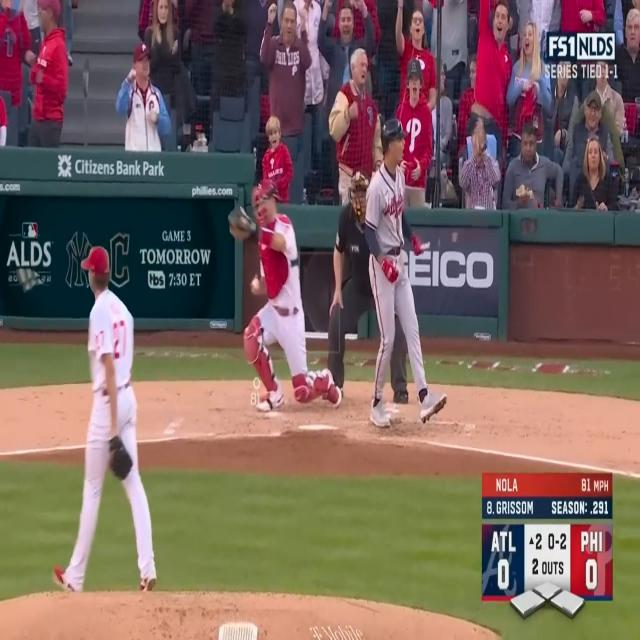baseball: (251, 276, 260, 292)
